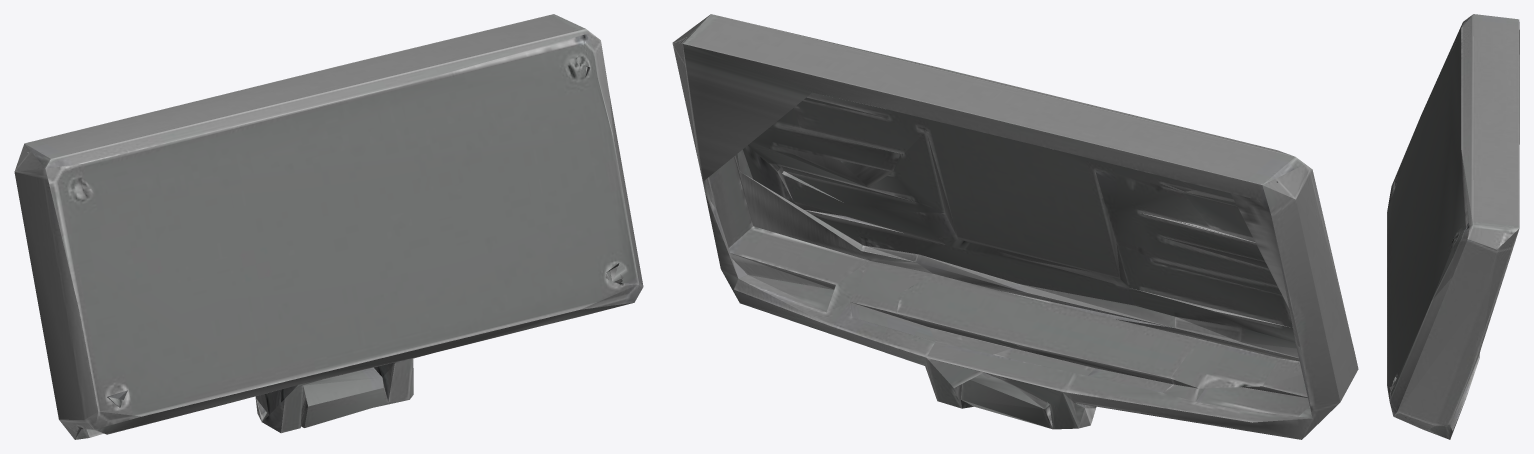
Rendered from shared_flak_tower_compact_option__radar_aperture_lod1.glb.
3 views of the same model, side by side, from view 1: azimuth 30°, elevation 25°; view 2: azimuth 150°, elevation 25°; view 3: azimuth 270°, elevation 25° (orthographic). The views are drawn at different scales.
Visible parts, largest first — view 1: mesh_node; view 2: mesh_node; view 3: mesh_node.
Boxes of the visible parts, x1=… form: mesh_node: x1=14, y1=14, x2=643, y2=439; mesh_node: x1=672, y1=14, x2=1358, y2=439; mesh_node: x1=1387, y1=14, x2=1519, y2=439.
Size of the model in its own units: 1.4 by 0.7301 by 0.3468.
Materials: 1 (1 with a texture image).
